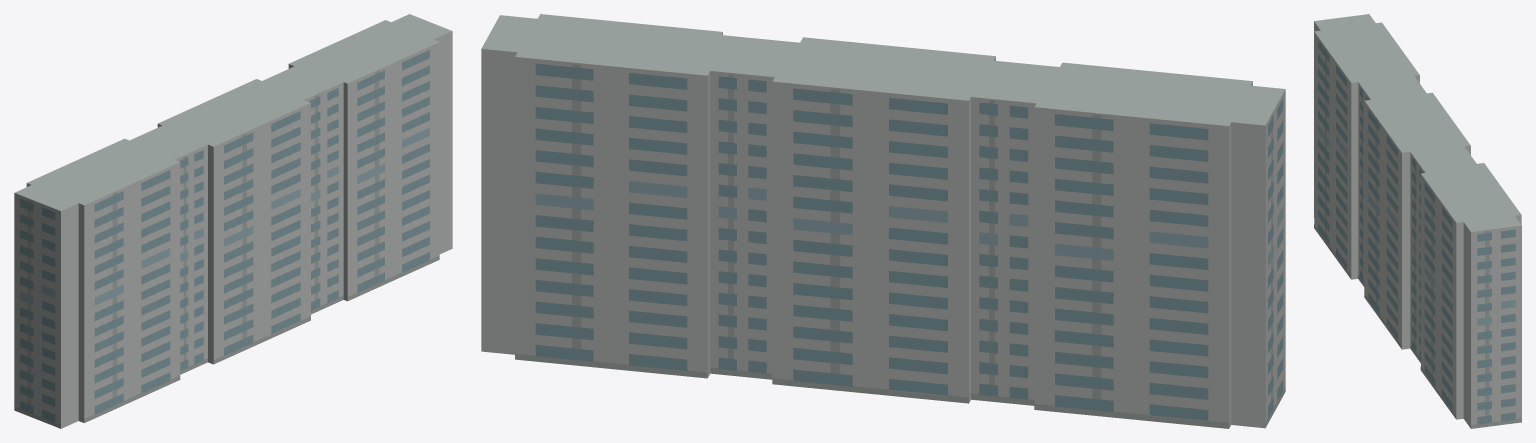
Rendered from residential-cf7de352-06fe-4ecd-aa7c-43b1b57b7a06.glb.
3 renders of one model, left to right at view 1: azimuth 30°, elevation 25°; view 2: azimuth 150°, elevation 25°; view 3: azimuth 270°, elevation 25°, orthographic. The views are drawn at different scales.
Visible parts, largest first — view 1: residential-cf7de352-06fe-4ecd-aa7c-43b1b57b7a06.tmp; view 2: residential-cf7de352-06fe-4ecd-aa7c-43b1b57b7a06.tmp; view 3: residential-cf7de352-06fe-4ecd-aa7c-43b1b57b7a06.tmp.
Boxes of the visible parts, box(x1,y1,x2,y2) form: residential-cf7de352-06fe-4ecd-aa7c-43b1b57b7a06.tmp: box(14, 14, 452, 428); residential-cf7de352-06fe-4ecd-aa7c-43b1b57b7a06.tmp: box(481, 14, 1285, 428); residential-cf7de352-06fe-4ecd-aa7c-43b1b57b7a06.tmp: box(1314, 14, 1521, 428).
Size of the model in its own units: 101 by 42.7 by 40.87.
